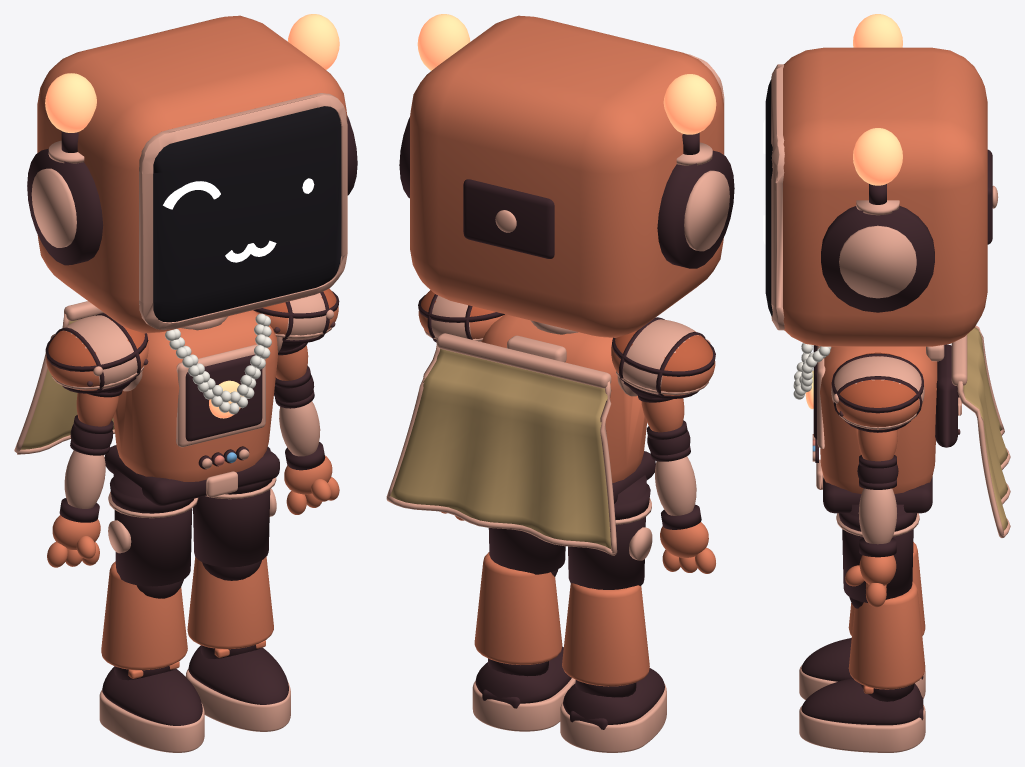
Rendered from sonnet.glb.
3 views of the same model, side by side, from view 1: azimuth 30°, elevation 25°; view 2: azimuth 150°, elevation 25°; view 3: azimuth 270°, elevation 25° (orthographic). The views are drawn at different scales.
Visible parts, largest first — view 1: BITTY_Head_surface, BITTY_Torso_surface, BITTY_Ankle0_surface, BITTY_Ankle1_surface, BITTY_Knee0_surface, BITTY_Leg0_surface, BITTY_Knee1_surface, BITTY_Leg1_surface, BITTY_Elbow0_surface, BITTY_Elbow1_surface, BITTY_Arm0_surface, BITTY_Arm1_surface; view 2: BITTY_Head_surface, BITTY_Torso_surface, BITTY_Knee0_surface, BITTY_Knee1_surface, BITTY_Ankle0_surface, BITTY_Ankle1_surface, BITTY_Elbow0_surface, BITTY_Leg0_surface, BITTY_Leg1_surface, BITTY_Arm0_surface; view 3: BITTY_Head_surface, BITTY_Torso_surface, BITTY_Ankle1_surface, BITTY_Knee1_surface, BITTY_Elbow1_surface, BITTY_Leg1_surface, BITTY_Ankle0_surface, BITTY_Arm1_surface, BITTY_Knee0_surface.
Boxes of the visible parts, x1,y1,x2,y2 form: BITTY_Head_surface: (27, 14, 357, 333); BITTY_Torso_surface: (14, 288, 339, 518); BITTY_Ankle0_surface: (99, 661, 204, 752); BITTY_Ankle1_surface: (185, 640, 290, 731); BITTY_Knee0_surface: (101, 561, 187, 670); BITTY_Leg0_surface: (108, 468, 192, 598); BITTY_Knee1_surface: (187, 556, 273, 649); BITTY_Leg1_surface: (193, 446, 276, 580); BITTY_Elbow0_surface: (47, 439, 109, 567); BITTY_Elbow1_surface: (275, 390, 339, 514); BITTY_Arm0_surface: (70, 390, 122, 449); BITTY_Arm1_surface: (274, 342, 314, 402); BITTY_Head_surface: (399, 14, 734, 337); BITTY_Torso_surface: (386, 290, 715, 555); BITTY_Knee0_surface: (562, 583, 649, 686); BITTY_Knee1_surface: (474, 552, 562, 664); BITTY_Ankle0_surface: (560, 668, 666, 752); BITTY_Ankle1_surface: (472, 646, 575, 731); BITTY_Elbow0_surface: (650, 445, 715, 573); BITTY_Leg0_surface: (568, 475, 652, 589); BITTY_Leg1_surface: (488, 528, 565, 576); BITTY_Arm0_surface: (637, 395, 690, 455); BITTY_Head_surface: (763, 14, 998, 346); BITTY_Torso_surface: (793, 325, 1010, 537); BITTY_Ankle1_surface: (799, 678, 925, 752); BITTY_Knee1_surface: (848, 581, 925, 689); BITTY_Elbow1_surface: (845, 479, 896, 607); BITTY_Leg1_surface: (842, 504, 913, 608); BITTY_Ankle0_surface: (799, 638, 925, 699); BITTY_Arm1_surface: (857, 429, 898, 483); BITTY_Knee0_surface: (848, 542, 925, 635).
Size of the model in its own units: 0.7046 by 1.55 by 0.5415.
Materials: 9 (9 with a texture image).
